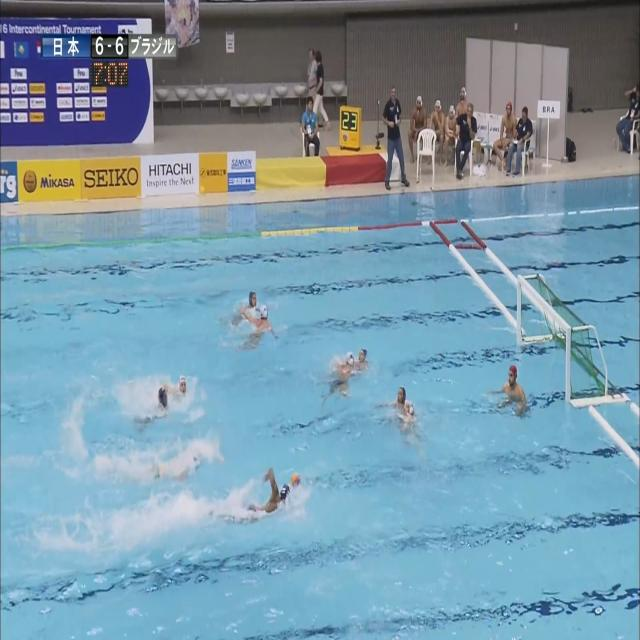ball: (291, 472, 300, 487)
